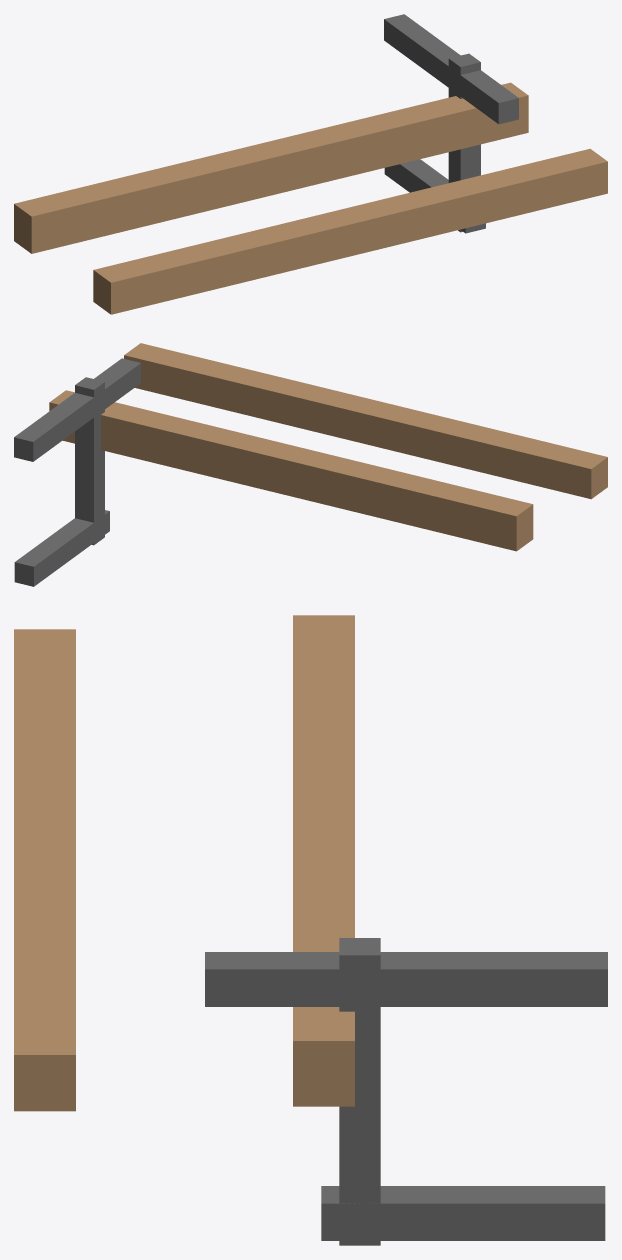
File: city_wood_metal_bench.glb
3 views of the same model, one above another, from view 1: azimuth 30°, elevation 25°; view 2: azimuth 150°, elevation 25°; view 3: azimuth 270°, elevation 25° (orthographic). The views are drawn at different scales.
Parts seen in each view (by area): view 1: seat_slats, wood_slats, leg_back, side_support, leg_front; view 2: seat_slats, wood_slats, leg_back, side_support, leg_front; view 3: wood_slats, seat_slats, leg_back, leg_front, side_support.
Boxes of the visible parts, x1,y1,x2,y2 form: seat_slats: (14, 82, 528, 253); wood_slats: (93, 148, 607, 314); leg_back: (384, 14, 518, 124); side_support: (448, 53, 480, 232); leg_front: (384, 159, 485, 233); seat_slats: (49, 390, 533, 551); wood_slats: (124, 343, 607, 499); leg_back: (14, 358, 140, 461); side_support: (75, 377, 104, 545); leg_front: (14, 510, 109, 586); wood_slats: (14, 629, 75, 1111); seat_slats: (293, 615, 354, 1106); leg_back: (205, 952, 607, 1006); leg_front: (321, 1186, 605, 1240); side_support: (339, 938, 380, 1245).
Bounding box in the file's own units: 1.95 × 0.62 × 1.15.
